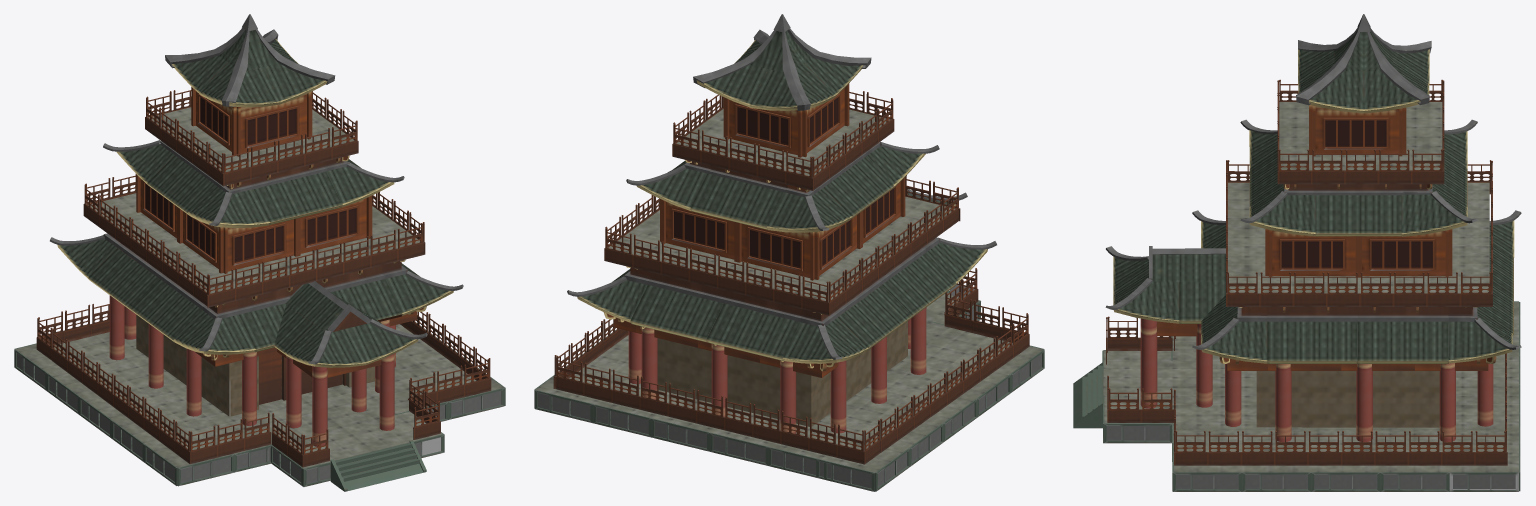
Rendered from Honden.gltf.
The picture shows the model from 3 angles, left to right: view 1: azimuth 30°, elevation 25°; view 2: azimuth 150°, elevation 25°; view 3: azimuth 270°, elevation 25°; orthographic projection. The views are drawn at different scales.
Visible parts, largest first — view 1: pCube82, pPlane487, polySurface664, polySurface532, pPlane491, polySurface655, polySurface543, polySurface540, polySurface656, pPlane488, polySurface671, polySurface635 (+63 smaller); view 2: pCube82, pPlane491, pPlane487, polySurface537, polySurface638, polySurface637, pPlane488, polySurface654, polySurface543, polySurface659, polySurface669, polySurface660 (+62 smaller); view 3: pCube82, pPlane487, pPlane491, pPlane488, polySurface670, polySurface531, polySurface523, polySurface609, polySurface662, polySurface661, polySurface536, polySurface664 (+63 smaller).
Part boxes in pixels (x1=…): pCube82: x1=15, y1=324, x2=503, y2=469; pPlane487: x1=88, y1=193, x2=420, y2=293; polySurface664: x1=284, y1=318, x2=418, y2=367; polySurface532: x1=188, y1=166, x2=394, y2=228; pPlane491: x1=136, y1=262, x2=374, y2=416; polySurface655: x1=236, y1=92, x2=310, y2=156; polySurface543: x1=172, y1=55, x2=280, y2=107; polySurface540: x1=254, y1=171, x2=342, y2=225; polySurface656: x1=223, y1=218, x2=297, y2=273; pPlane488: x1=148, y1=107, x2=354, y2=171; polySurface671: x1=298, y1=196, x2=370, y2=256; polySurface635: x1=88, y1=248, x2=159, y2=311; pCube82: x1=535, y1=293, x2=1043, y2=472; pPlane491: x1=657, y1=287, x2=907, y2=426; pPlane487: x1=608, y1=196, x2=955, y2=301; polySurface537: x1=637, y1=162, x2=852, y2=232; polySurface638: x1=706, y1=303, x2=800, y2=361; polySurface637: x1=630, y1=285, x2=723, y2=342; pPlane488: x1=676, y1=109, x2=890, y2=175; polySurface654: x1=690, y1=173, x2=783, y2=229; polySurface543: x1=750, y1=58, x2=863, y2=110; polySurface659: x1=737, y1=222, x2=814, y2=280; polySurface669: x1=725, y1=98, x2=802, y2=157; polySurface660: x1=661, y1=199, x2=736, y2=261; pCube82: x1=1103, y1=302, x2=1519, y2=472; pPlane487: x1=1228, y1=182, x2=1489, y2=293; pPlane491: x1=1256, y1=371, x2=1439, y2=427; pPlane488: x1=1279, y1=102, x2=1442, y2=170; polySurface670: x1=1312, y1=105, x2=1402, y2=156; polySurface531: x1=1357, y1=321, x2=1448, y2=363; polySurface523: x1=1267, y1=321, x2=1357, y2=363; polySurface609: x1=1298, y1=60, x2=1429, y2=113; polySurface662: x1=1269, y1=230, x2=1358, y2=277; polySurface661: x1=1359, y1=230, x2=1448, y2=277; polySurface536: x1=1313, y1=195, x2=1401, y2=236; polySurface664: x1=1113, y1=256, x2=1179, y2=323.
Size of the model in its own units: 84.53 by 90.32 by 93.43.
Materials: 1 (1 with a texture image).
